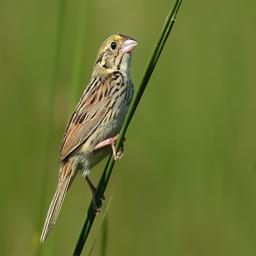Sparrow: (38, 33, 140, 249)
